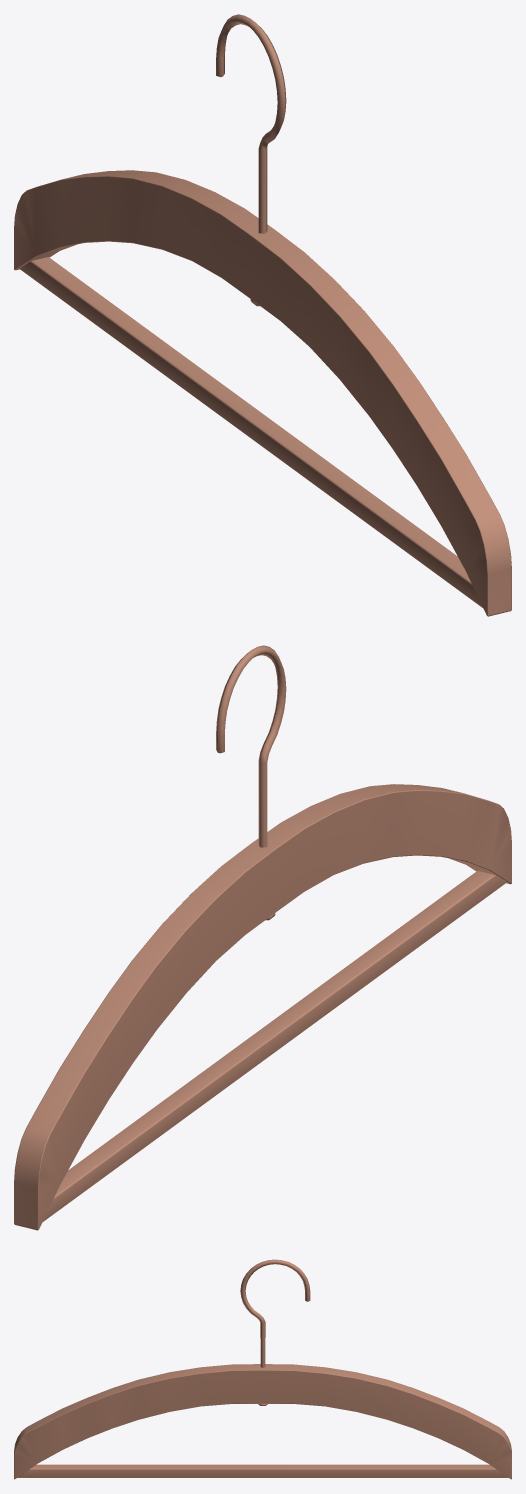
File: hanger.gltf
3 renders of one model, top to bottom at view 1: azimuth 30°, elevation 25°; view 2: azimuth 150°, elevation 25°; view 3: azimuth 270°, elevation 25°, orthographic. The views are drawn at different scales.
Visible parts, largest first — view 1: Hanger_1; view 2: Hanger_1; view 3: Hanger_1.
Part boxes in pixels (box(x1,y1,x2,y2)): Hanger_1: box(14, 14, 511, 616); Hanger_1: box(14, 645, 511, 1230); Hanger_1: box(14, 1259, 511, 1479).
Size of the model in its own units: 0.01 by 0.1585 by 0.3296.
